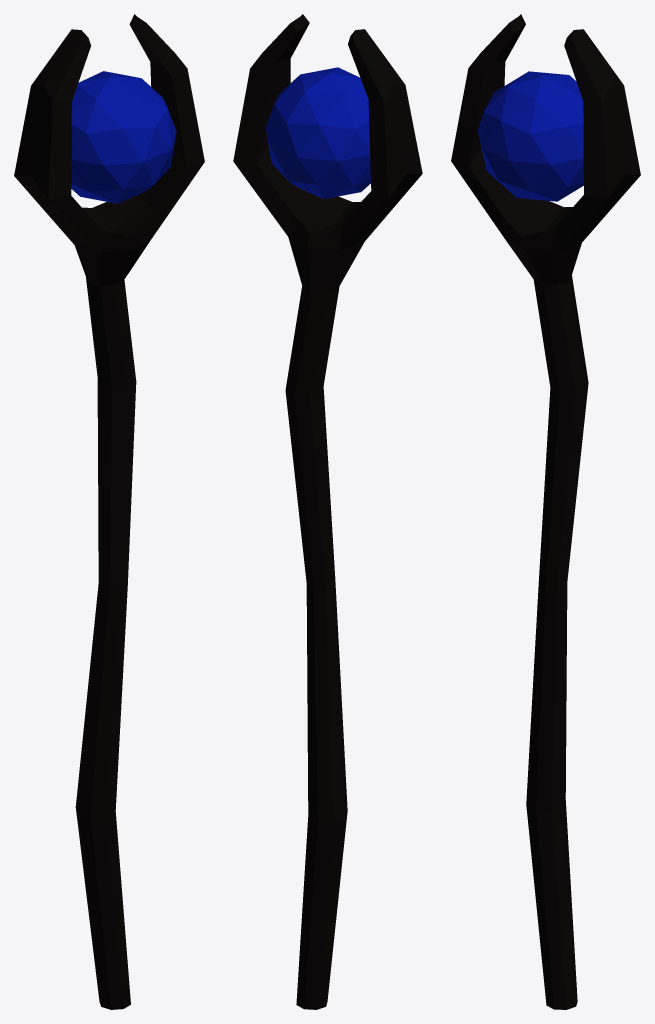
Rendered from Staff.obj.
3 views of the same model, side by side, from view 1: azimuth 30°, elevation 25°; view 2: azimuth 150°, elevation 25°; view 3: azimuth 330°, elevation 25° (orthographic).
Visible parts, largest first — view 1: Staff_Cylinder; view 2: Staff_Cylinder; view 3: Staff_Cylinder.
Boxes of the visible parts, left/top/right/bottom form: Staff_Cylinder: left=14, top=14, right=204, bottom=1009; Staff_Cylinder: left=233, top=14, right=422, bottom=1009; Staff_Cylinder: left=451, top=14, right=640, bottom=1009.
Size of the model in its own units: 0.3995 by 2.39 by 0.2952.
